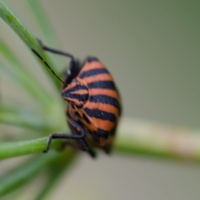insect: (37, 39, 120, 155)
